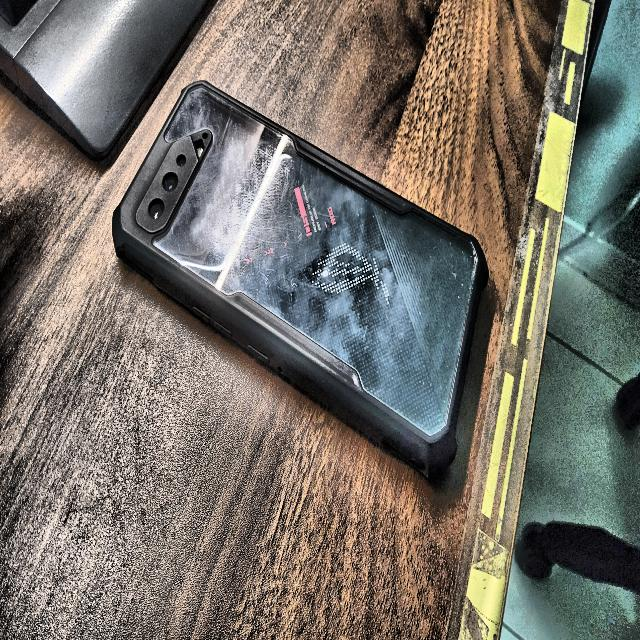PHONE: (113, 83, 487, 472)
